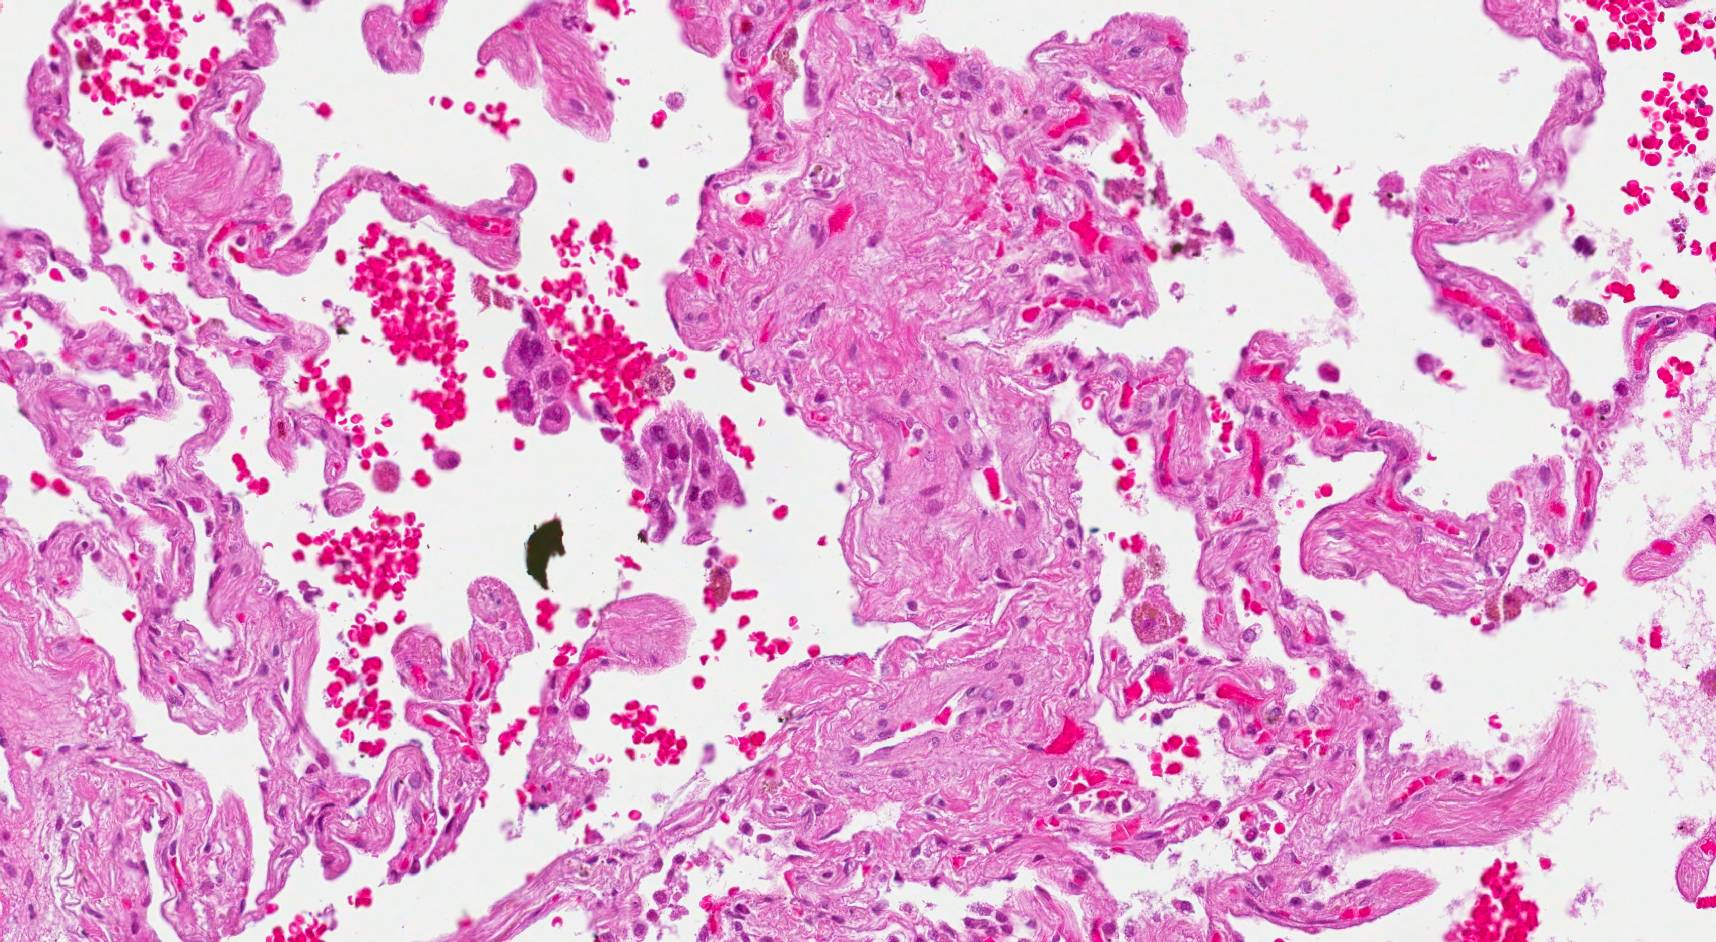stas: (616, 404, 749, 547), (505, 298, 587, 436)
